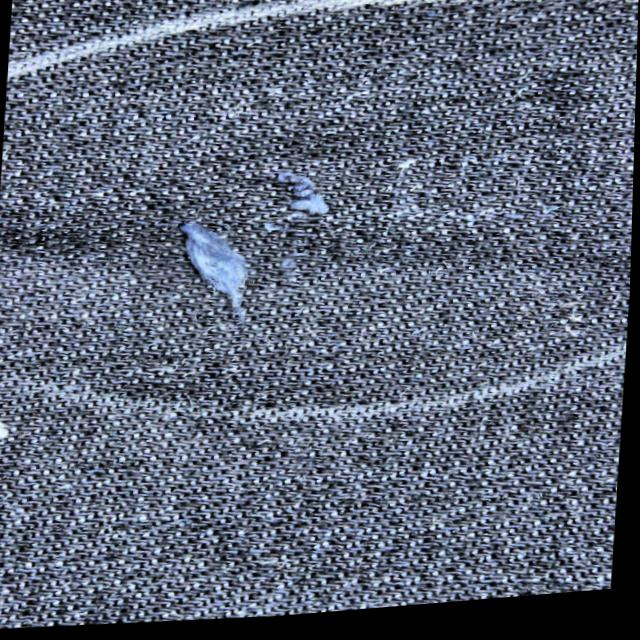Hole: (152, 207, 266, 332), (271, 150, 365, 239), (0, 407, 52, 453)
